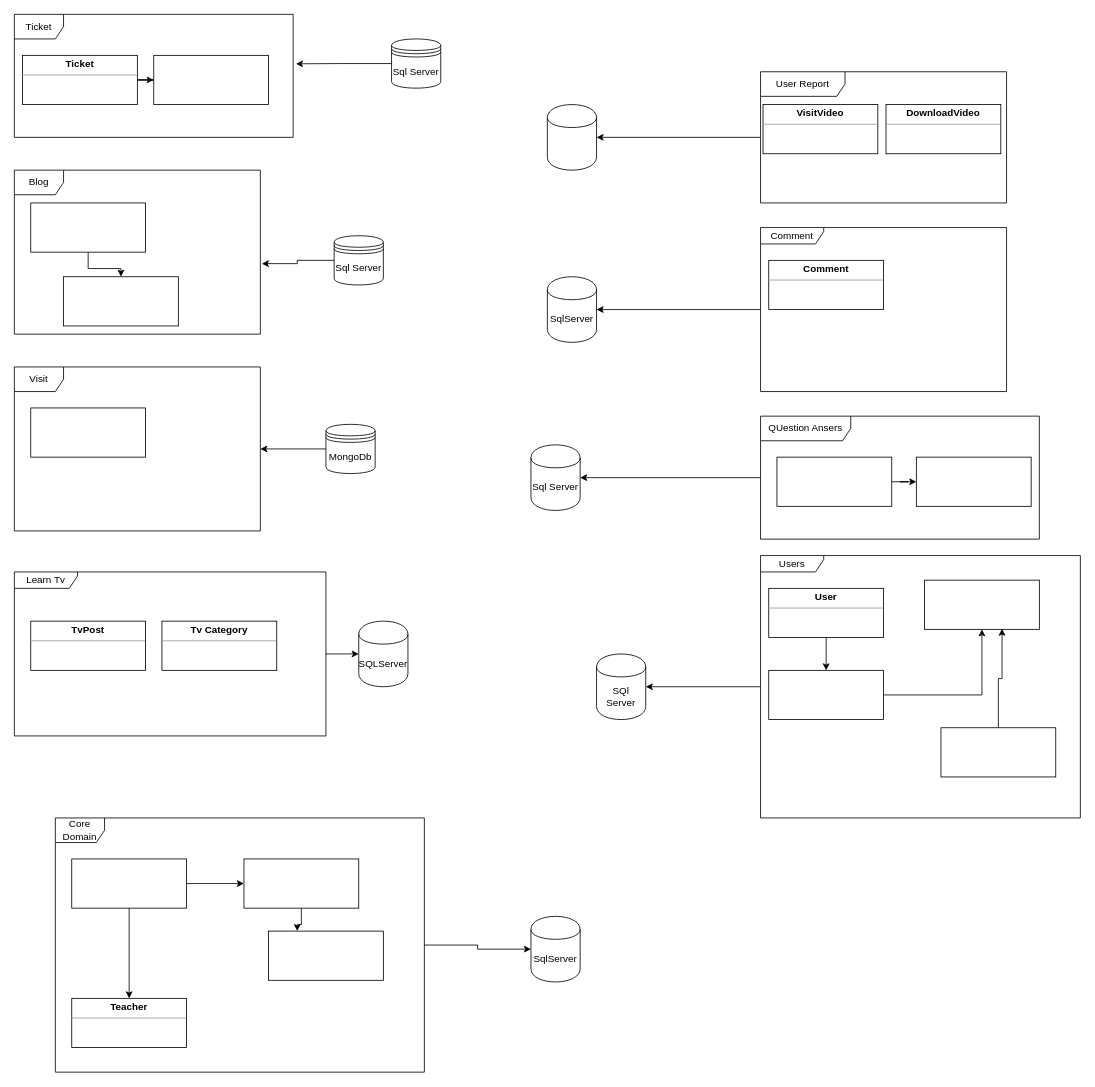
Some shapes in this 1095 by 1087 pixel diagram are drawn without their labels. The centre of each missing label's shape, as x and y in pixels:
"Answers" goes at (973,481).
"Category" goes at (120,301).
"Course" goes at (129,883).
"Episode" goes at (325,955).
"Mongo Db" goes at (572,137).
"Post" goes at (88,227).
"Question" goes at (834,481).
"Role" goes at (981,604).
"RolePermission" goes at (998,752).
"Section" goes at (301,883).
"TicketMessage" goes at (211,80).
"UserRole" goes at (826,695).
"UserVisit" goes at (88,432).
